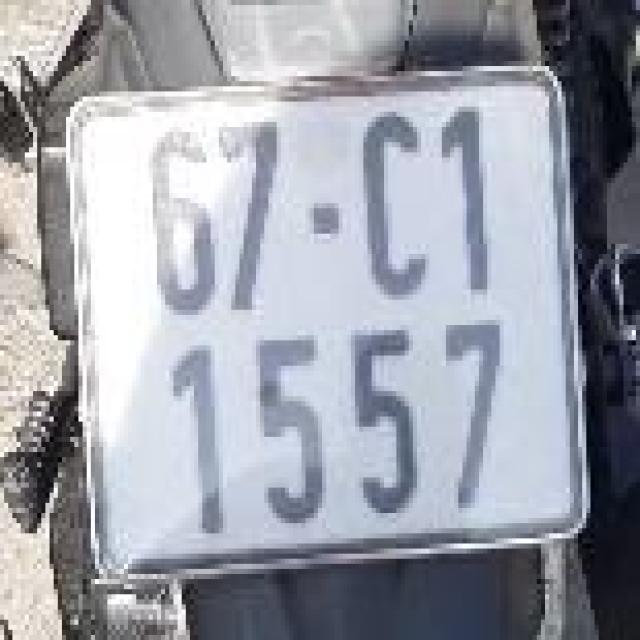1: (427, 94, 514, 302), (159, 338, 237, 541)
5: (343, 312, 429, 521), (256, 312, 339, 526)
6: (130, 120, 225, 322)
7: (432, 297, 514, 506), (215, 110, 293, 308)
C: (345, 106, 444, 300)
